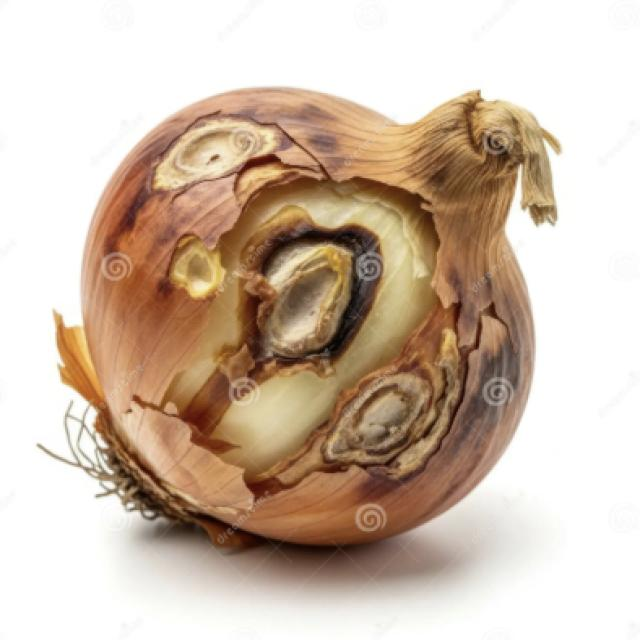mechanical_damage: (55, 90, 559, 544)
